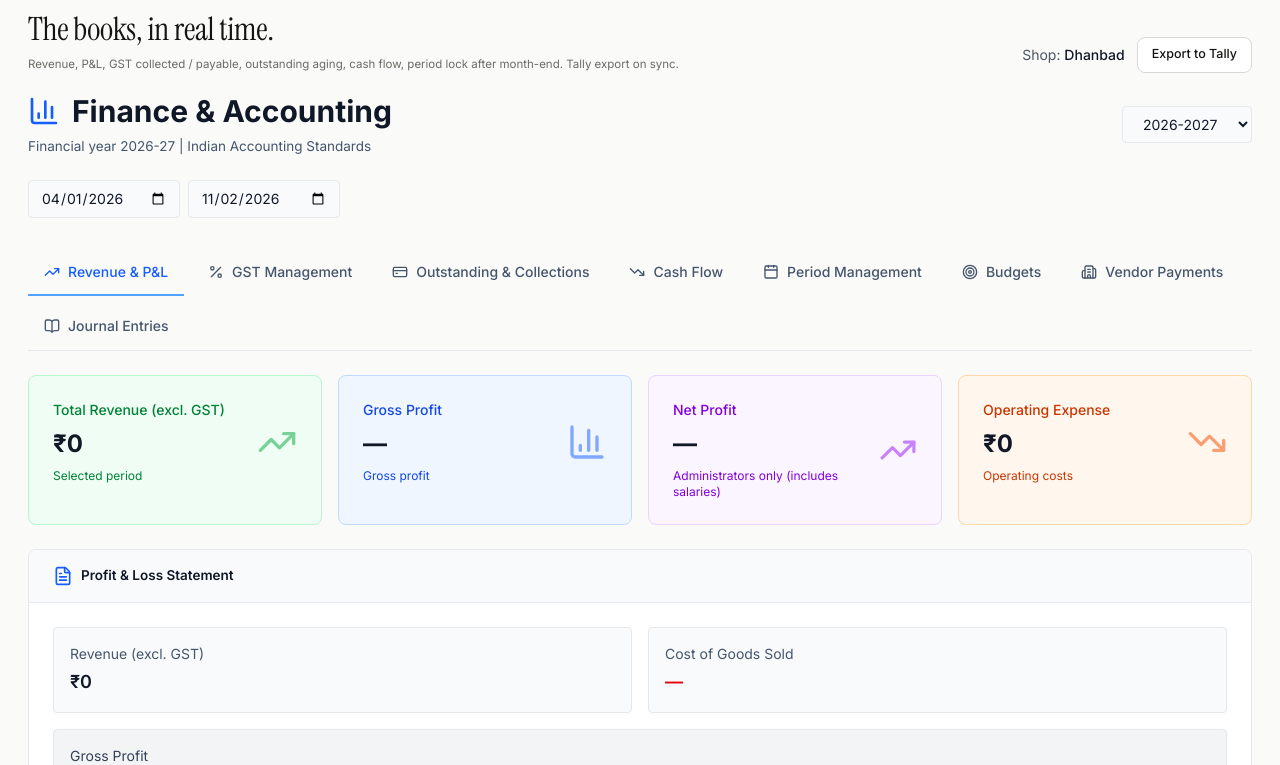
the Finance GST table is one row per GSTIN › a refused table says so in its place, never an empty table
Click the button "GST Management" at (280, 273), box [192,250,368,296]
(page scrolled)
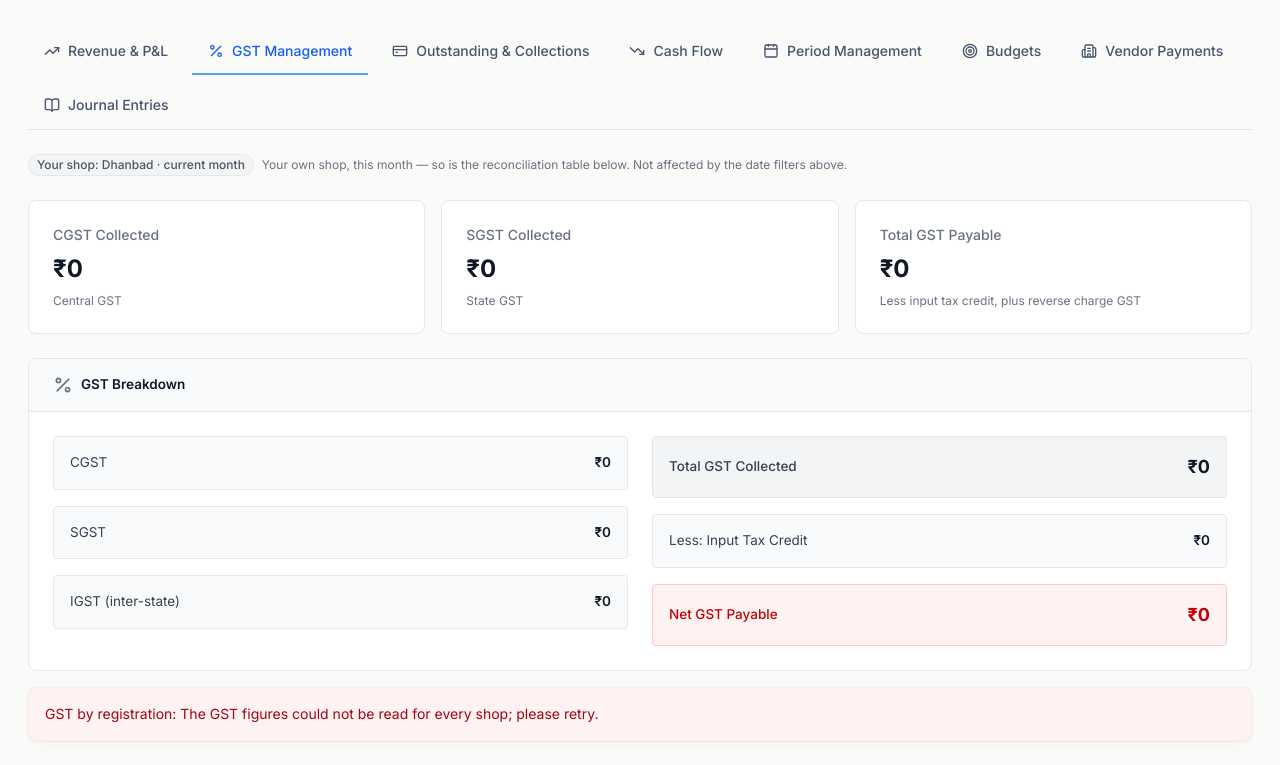
Expected: the message with test id "gst-recon-error" shows "could not be read for every shop", [180,705,598,722]
